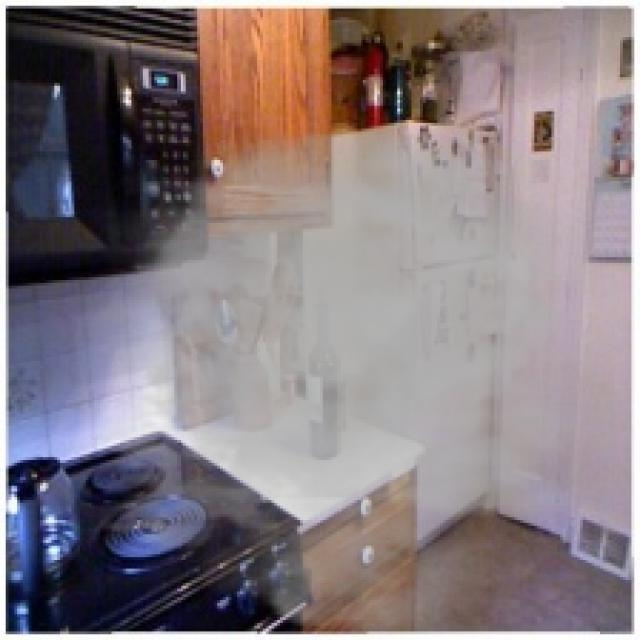Smoke: (46, 102, 614, 634)
